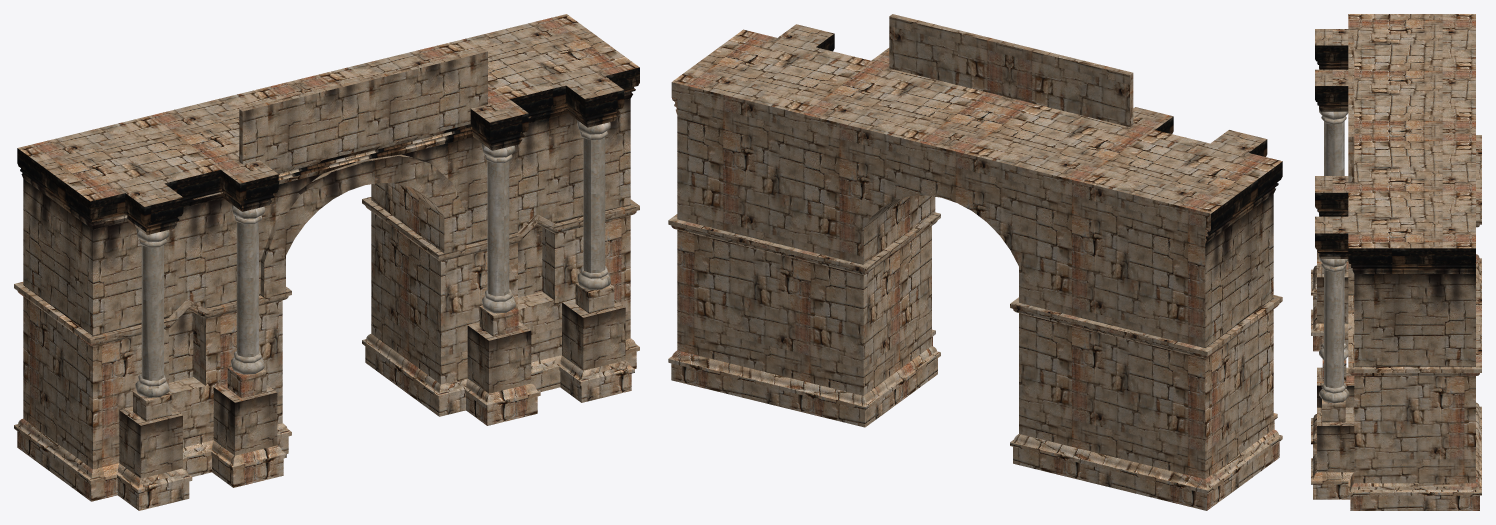
The model's file is ruinsArc.obj.
3 views of the same model, side by side, from view 1: azimuth 30°, elevation 25°; view 2: azimuth 150°, elevation 25°; view 3: azimuth 270°, elevation 25° (orthographic). The views are drawn at different scales.
Visible parts, largest first — view 1: Mesh01.003; view 2: Mesh01.003; view 3: Mesh01.003.
Part boxes in pixels (x1,y1,x2,y2): Mesh01.003: [14, 14, 639, 510]; Mesh01.003: [668, 14, 1282, 510]; Mesh01.003: [1311, 14, 1481, 510].
Size of the model in its own units: 1818 by 1121 by 561.
4 materials, 4 textured.
